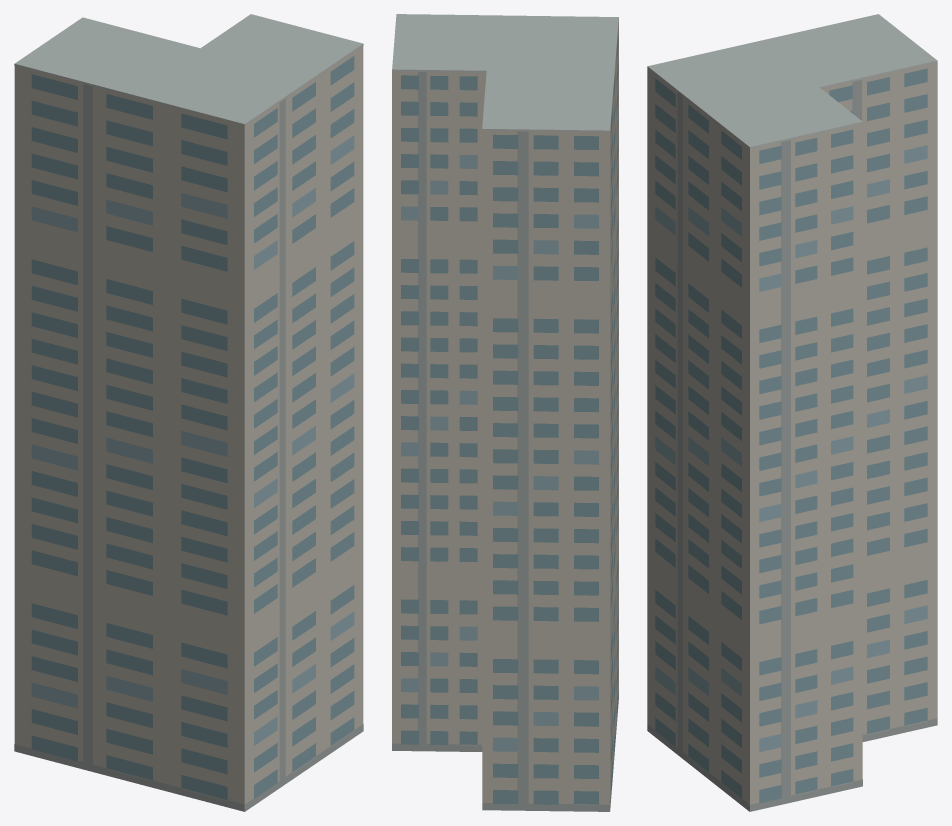
Rendered from residential-16c1db4c-c6cf-4123-b9ba-ffc7c2e9cad3.glb.
3 renders of one model, left to right at view 1: azimuth 30°, elevation 25°; view 2: azimuth 150°, elevation 25°; view 3: azimuth 270°, elevation 25°, orthographic. The views are drawn at different scales.
Visible parts, largest first — view 1: residential-16c1db4c-c6cf-4123-b9ba-ffc7c2e9cad3.tmp; view 2: residential-16c1db4c-c6cf-4123-b9ba-ffc7c2e9cad3.tmp; view 3: residential-16c1db4c-c6cf-4123-b9ba-ffc7c2e9cad3.tmp.
Boxes of the visible parts, box(x1,y1,x2,y2) form: residential-16c1db4c-c6cf-4123-b9ba-ffc7c2e9cad3.tmp: box(14, 14, 363, 811); residential-16c1db4c-c6cf-4123-b9ba-ffc7c2e9cad3.tmp: box(392, 14, 618, 811); residential-16c1db4c-c6cf-4123-b9ba-ffc7c2e9cad3.tmp: box(647, 14, 937, 811).
Bounding box in the file's own units: 34.38 × 80 × 31.65.
